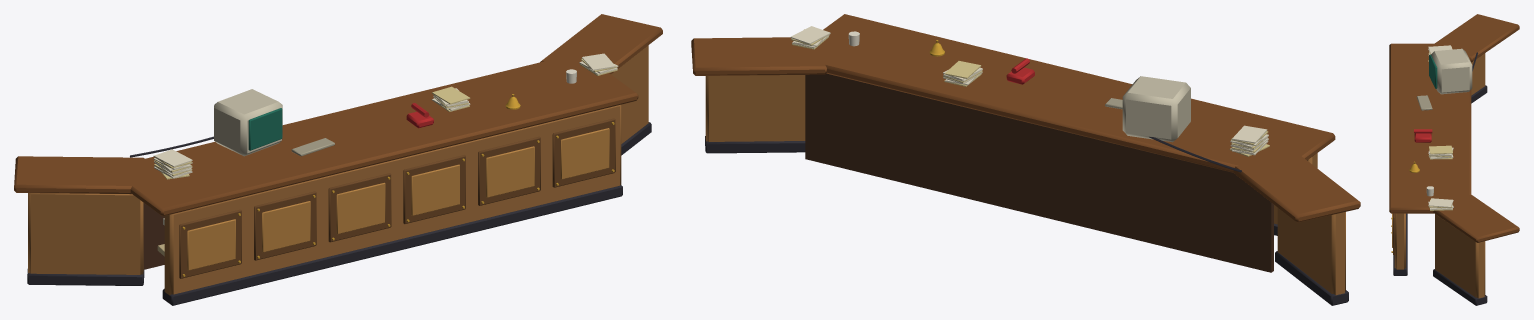
The model's file is desk_block.glb.
3 renders of one model, left to right at view 1: azimuth 30°, elevation 25°; view 2: azimuth 150°, elevation 25°; view 3: azimuth 270°, elevation 25°, orthographic. The views are drawn at different scales.
Visible parts, largest first — view 1: desk; view 2: desk; view 3: desk.
Boxes of the visible parts, box(x1,y1,x2,y2) form: desk: box(14, 14, 662, 305); desk: box(691, 14, 1360, 305); desk: box(1389, 14, 1519, 305).
Size of the model in its own units: 7.46 by 1.61 by 1.83.
